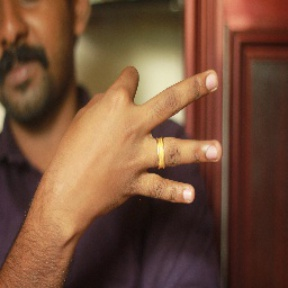K: (35, 66, 224, 207)
